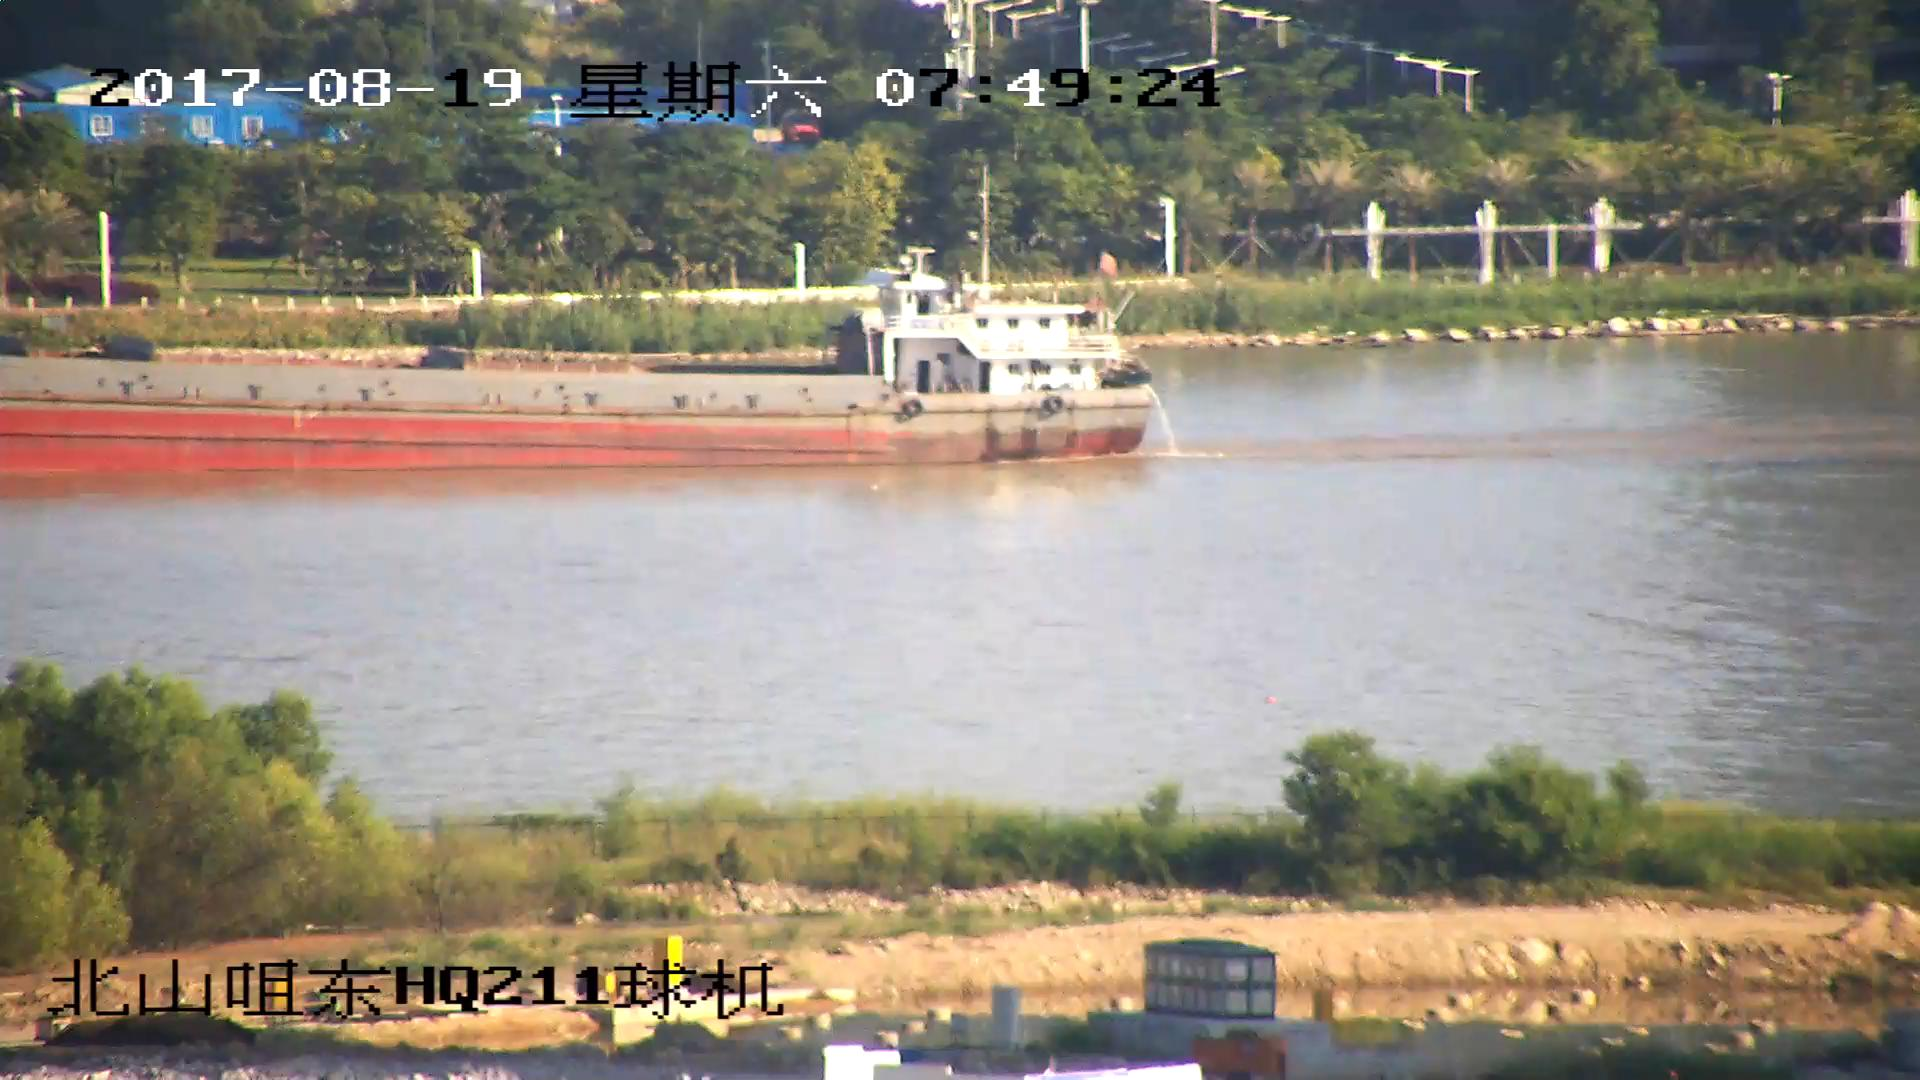bulk cargo carrier: (1, 173, 1153, 466)
